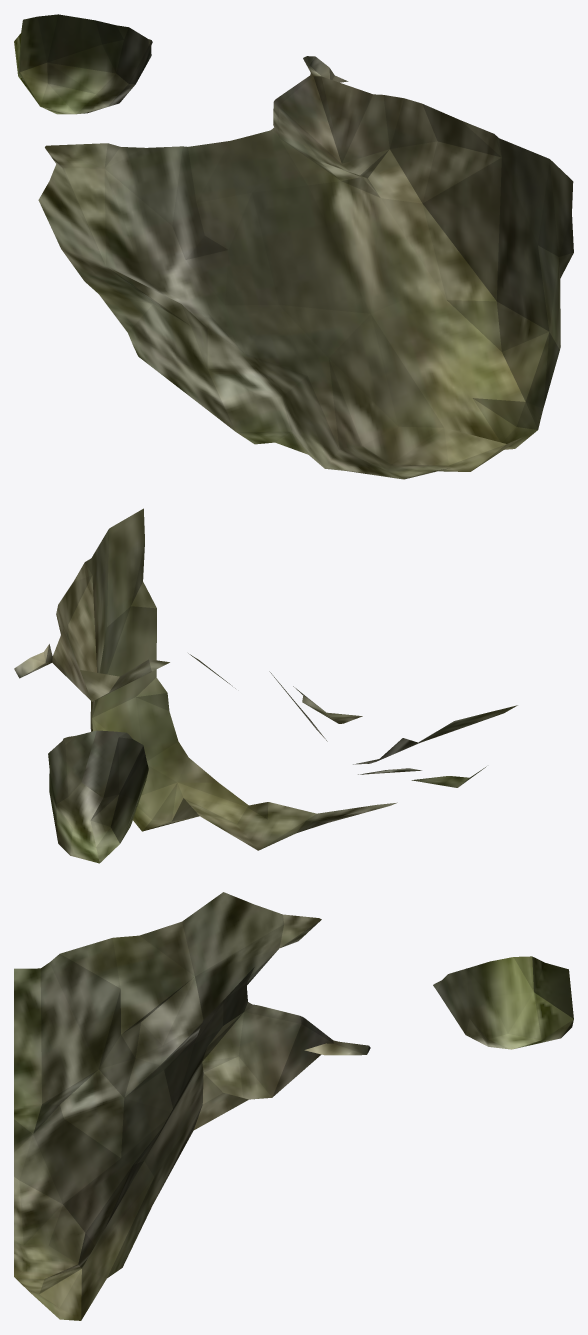
3 views of the same model, one above another, from view 1: azimuth 30°, elevation 25°; view 2: azimuth 150°, elevation 25°; view 3: azimuth 270°, elevation 25° (orthographic). The views are drawn at different scales.
Size of the model in its own units: 1.7 by 1.05 by 2.08.
Materials: 1 (1 with a texture image).
